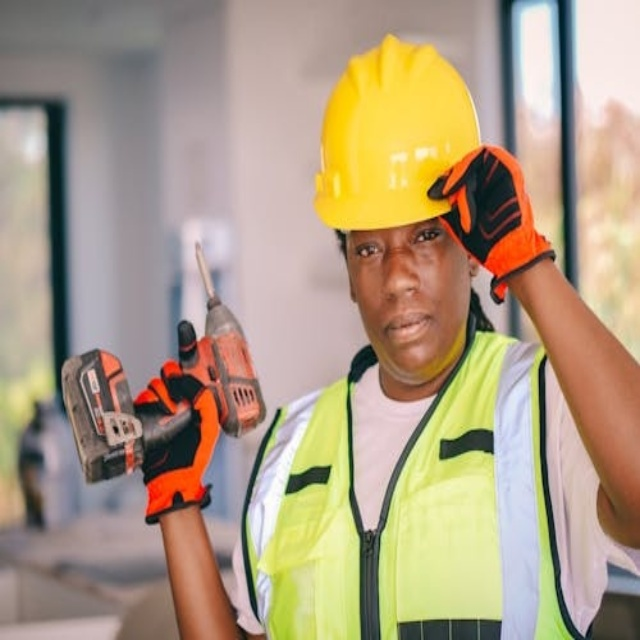Guantes: (424, 142, 559, 301), (131, 357, 220, 523)
Sin_gafas: (344, 213, 447, 268)
Sin_mascara: (375, 299, 440, 362)
